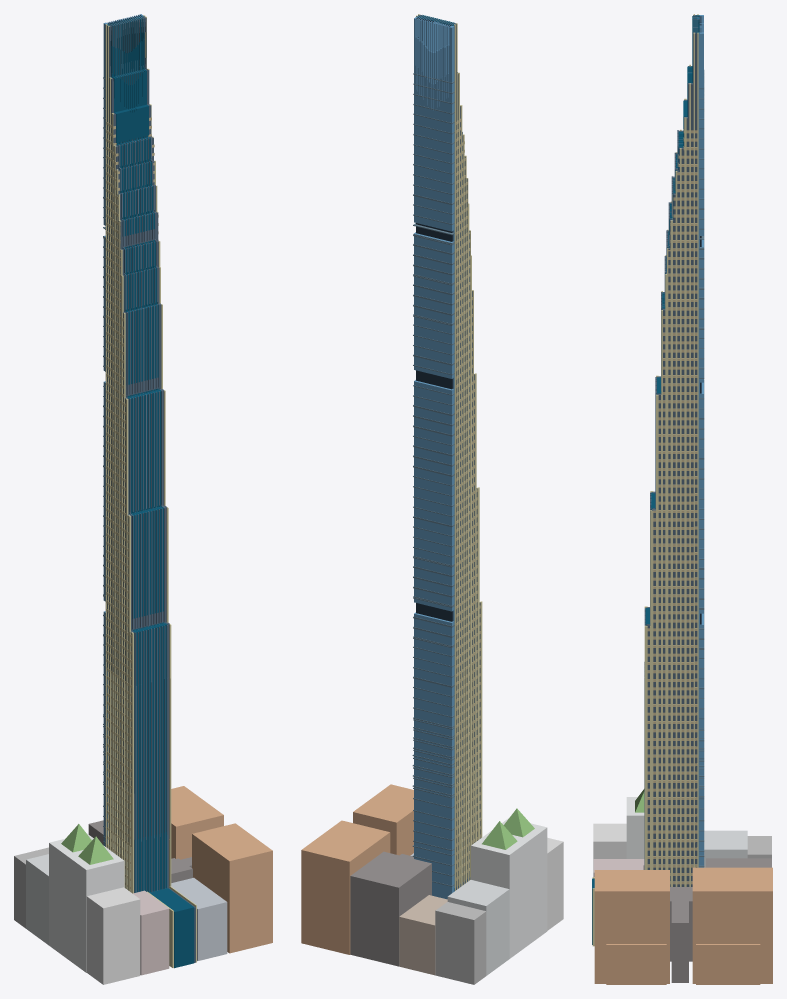
File: modal1.glb
3 views of the same model, side by side, from view 1: azimuth 30°, elevation 25°; view 2: azimuth 150°, elevation 25°; view 3: azimuth 270°, elevation 25° (orthographic).
Visible parts, largest first — view 1: Object_13, Object_10, Object_15, Object_17, Object_6, Object_12, Object_11, Object_3, Object_2, Object_14, Object_5, Object_7 (+3 smaller); view 2: Object_14, Object_10, Object_6, Object_16, Object_8, Object_17, Object_12, Object_3, Object_19, Object_7, Object_4, Object_11 (+2 smaller); view 3: Object_10, Object_6, Object_17, Object_3, Object_14, Object_8, Object_16, Object_7, Object_11, Object_15, Object_13, Object_12 (+2 smaller).
Part boxes in pixels (x1,y1,x2,y2): Object_13: [107, 16, 194, 968]; Object_10: [105, 15, 196, 967]; Object_15: [118, 137, 168, 892]; Object_17: [107, 16, 195, 962]; Object_6: [171, 786, 272, 953]; Object_12: [49, 833, 124, 972]; Object_11: [86, 887, 140, 984]; Object_3: [106, 117, 158, 889]; Object_2: [171, 877, 227, 960]; Object_14: [103, 14, 143, 847]; Object_5: [133, 890, 169, 975]; Object_7: [26, 854, 48, 945]; Object_14: [414, 16, 454, 899]; Object_10: [416, 14, 482, 890]; Object_6: [301, 784, 413, 954]; Object_16: [412, 73, 454, 886]; Object_8: [350, 851, 431, 966]; Object_17: [418, 14, 480, 889]; Object_12: [471, 818, 547, 958]; Object_3: [456, 118, 480, 880]; Object_19: [435, 902, 486, 984]; Object_7: [447, 880, 509, 975]; Object_4: [399, 895, 447, 975]; Object_11: [547, 837, 563, 930]; Object_10: [592, 14, 698, 946]; Object_6: [594, 867, 772, 984]; Object_17: [646, 15, 698, 886]; Object_3: [647, 129, 697, 884]; Object_14: [697, 15, 703, 867]; Object_8: [670, 858, 771, 982]; Object_16: [699, 70, 704, 867]; Object_7: [704, 830, 747, 867]; Object_11: [593, 823, 626, 876]; Object_15: [644, 130, 678, 869]; Object_13: [592, 15, 699, 944]; Object_12: [626, 797, 644, 858].
Bounding box in the file's own units: 39.17 × 197 × 35.33.
